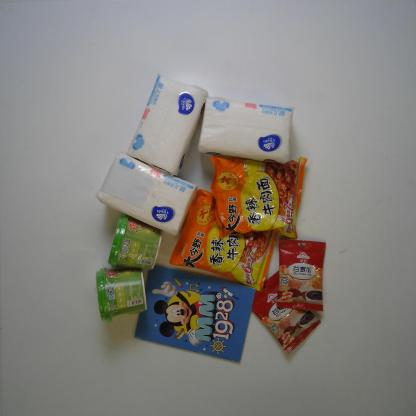Instant Drink: (252, 269, 321, 355), (276, 237, 327, 311), (107, 215, 163, 271), (95, 266, 148, 323)
Instant Noodles: (171, 189, 276, 292), (208, 154, 308, 241)
Stationery: (134, 266, 255, 364)
Tissue: (95, 152, 200, 236), (124, 73, 208, 176), (197, 96, 296, 166)
